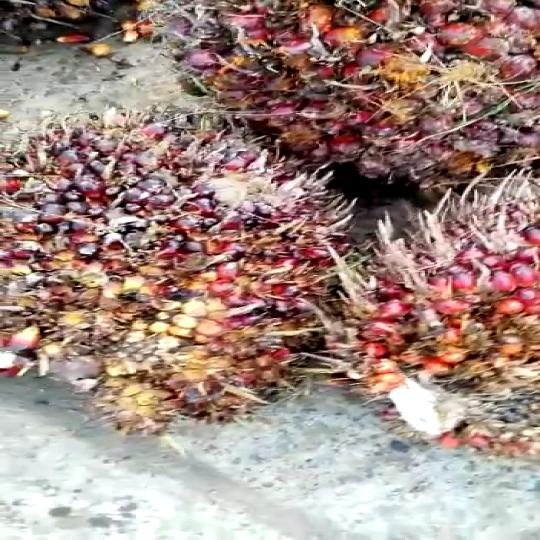masak: (0, 103, 364, 451), (136, 1, 540, 180)
